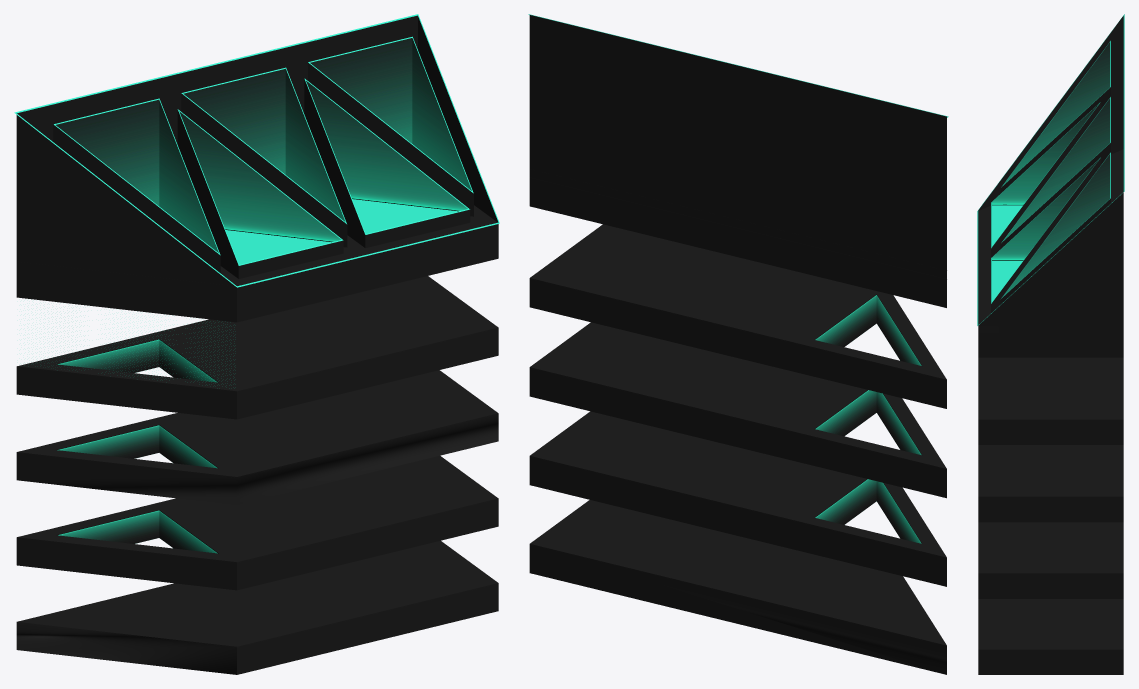
File: theta-interior.glb
3 views of the same model, side by side, from view 1: azimuth 30°, elevation 25°; view 2: azimuth 150°, elevation 25°; view 3: azimuth 270°, elevation 25° (orthographic). The views are drawn at different scales.
Visible parts, largest first — view 1: Floor_General_Piso.003, Floor_General_Piso.002, Triangulos_Gradiente.004, Floor_General_Piso001.001, Terraza_Color_Pleno.001, Triangulos_Gradiente.003; view 2: Floor_General_Piso.003, Floor_General_Piso.002, Floor_General_Piso001.001, Triangulos_Gradiente.003; view 3: Floor_General_Piso.003, Floor_General_Piso.002, Triangulos_Gradiente.004, Floor_General_Piso001.001, Terraza_Color_Pleno.001.
Part boxes in pixels (x1,y1,x2,y2): Floor_General_Piso.003: [16, 276, 498, 590]; Floor_General_Piso.002: [16, 15, 498, 322]; Triangulos_Gradiente.004: [56, 38, 471, 252]; Floor_General_Piso001.001: [16, 540, 498, 674]; Terraza_Color_Pleno.001: [14, 14, 499, 287]; Triangulos_Gradiente.003: [57, 339, 217, 553]; Floor_General_Piso.003: [529, 224, 946, 586]; Floor_General_Piso.002: [529, 15, 946, 307]; Floor_General_Piso001.001: [529, 500, 946, 674]; Triangulos_Gradiente.003: [815, 295, 921, 543]; Floor_General_Piso.003: [978, 357, 1123, 598]; Floor_General_Piso.002: [978, 16, 1123, 357]; Triangulos_Gradiente.004: [992, 42, 1109, 296]; Floor_General_Piso001.001: [978, 599, 1123, 674]; Terraza_Color_Pleno.001: [977, 14, 1124, 325].
Size of what is drawn, in the model's own units: 60 by 76.25 by 21.
Materials: 4 (2 with a texture image).
